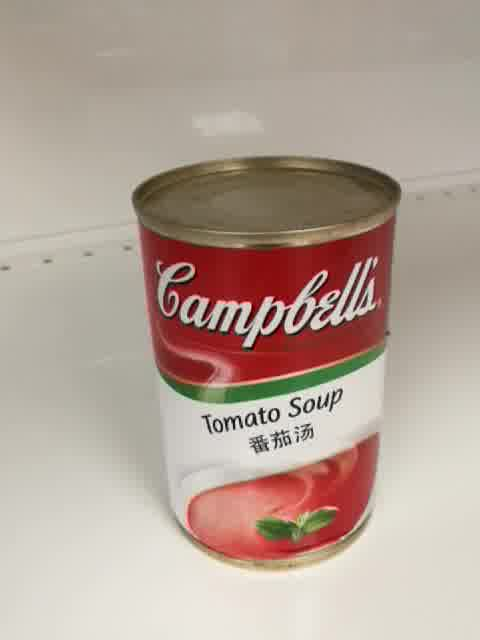tomatosoup: (130, 148, 403, 574)
